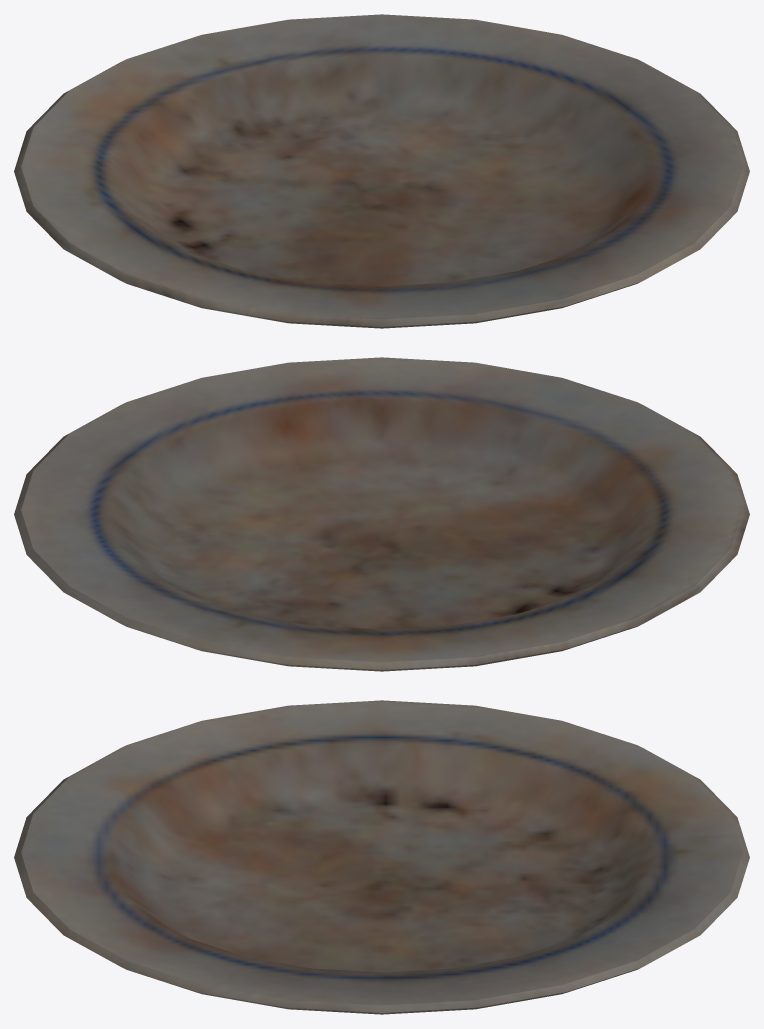
File: plate_mp_1.obj
3 renders of one model, top to bottom at view 1: azimuth 30°, elevation 25°; view 2: azimuth 150°, elevation 25°; view 3: azimuth 270°, elevation 25°, orthographic.
Parts seen in each view (by area): view 1: plate_mp_1; view 2: plate_mp_1; view 3: plate_mp_1.
Part boxes in pixels (x1,y1,x2,y2): plate_mp_1: (14, 14, 749, 328); plate_mp_1: (14, 357, 749, 671); plate_mp_1: (14, 700, 749, 1014).
Bounding box in the file's own units: 0.3276 × 0.0221 × 0.3276.
